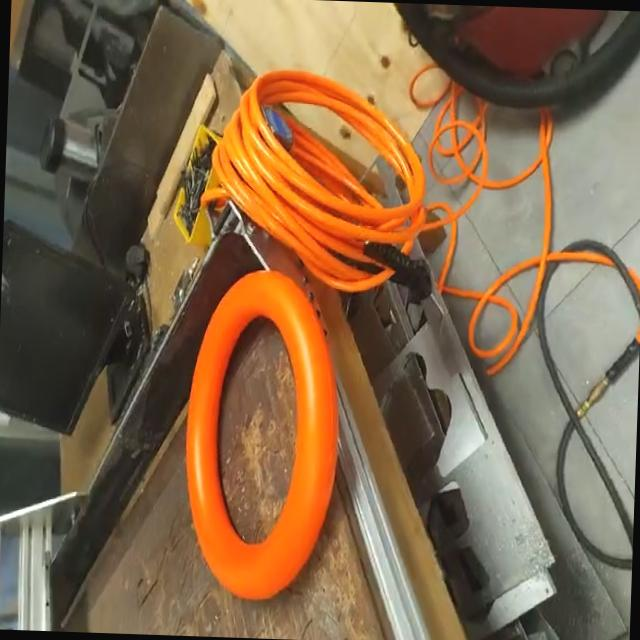note: (179, 264, 347, 608)
